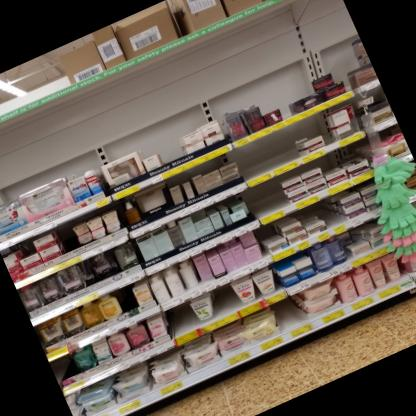empty_space: (233, 126, 300, 179), (243, 177, 288, 219), (167, 299, 198, 334), (272, 297, 301, 330), (154, 132, 184, 162), (212, 282, 240, 313), (317, 203, 345, 230), (58, 224, 78, 251), (49, 359, 67, 389), (281, 105, 292, 118)
